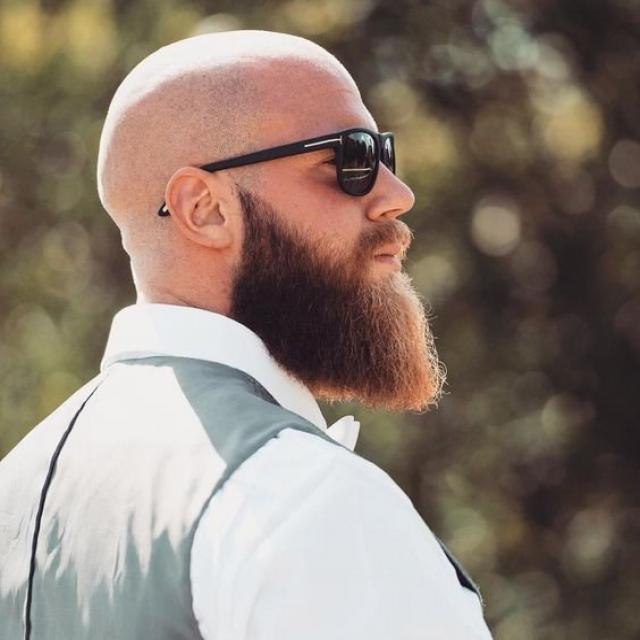beard: (230, 190, 446, 411)
